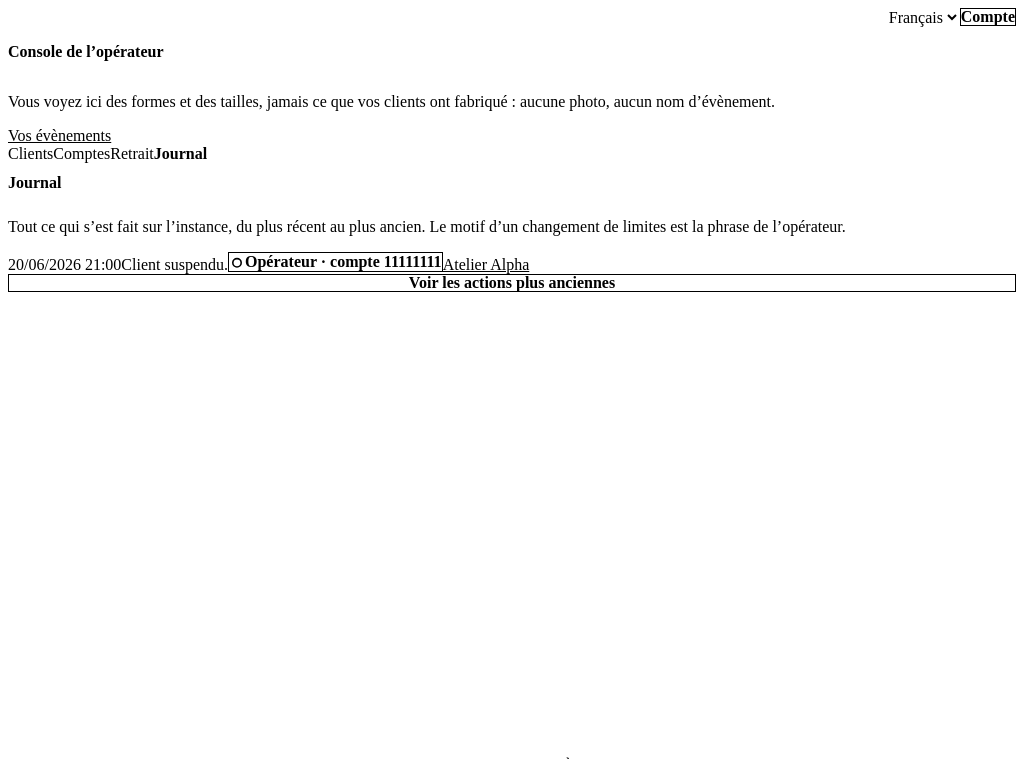
Test: the console’s log › reads older lines with the bound the server gave, and keeps the lines already read
Click the button "Voir les actions plus anciennes".
click(512, 283)  # box 8,274 -> 1016,292
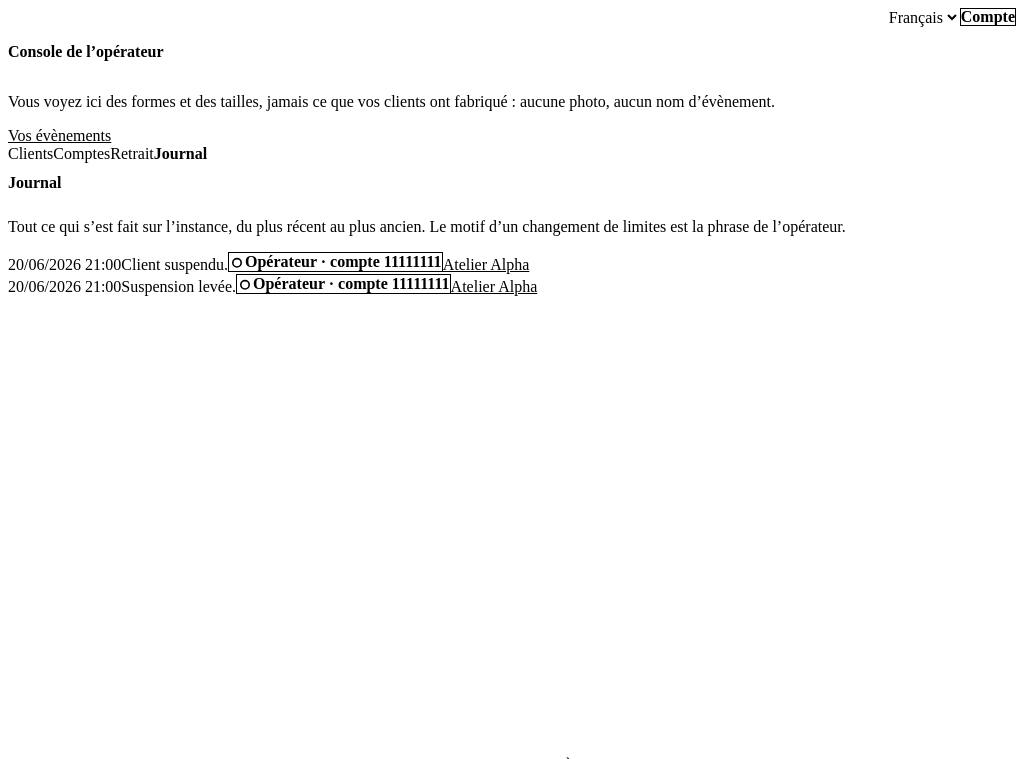
Expected: the text "Client suspendu." is shown, 121,256 -> 228,274
Now the text "Suspension levée." is shown, box 121,278 -> 236,296
Now the button "Voir les actions plus anciennes" is gone
